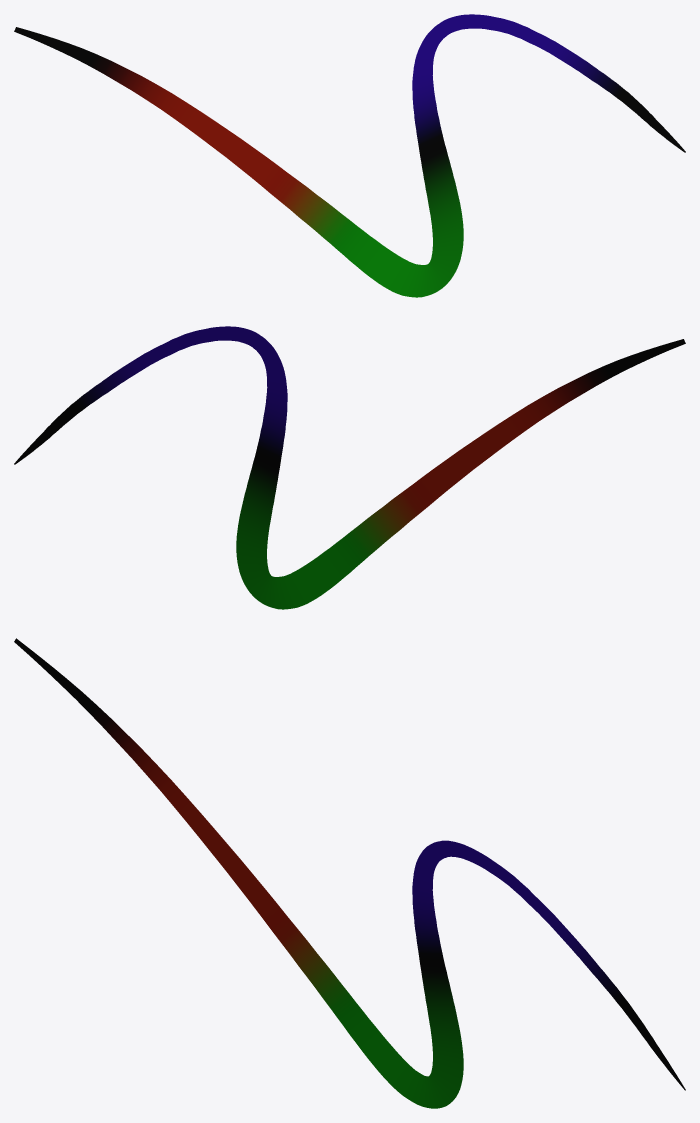
Rendered from Stroke.001.fbx.
3 renders of one model, top to bottom at view 1: azimuth 30°, elevation 25°; view 2: azimuth 150°, elevation 25°; view 3: azimuth 330°, elevation 25°, orthographic.
Parts seen in each view (by area): view 1: Lines@1; view 2: Lines@1; view 3: Lines@1.
Part boxes in pixels (left/top/right/bottom): Lines@1: left=14, top=14, right=685, bottom=297; Lines@1: left=14, top=326, right=685, bottom=609; Lines@1: left=14, top=638, right=685, bottom=1108.
Bounding box in the file's own units: 255 × 134 × 0.0172.
